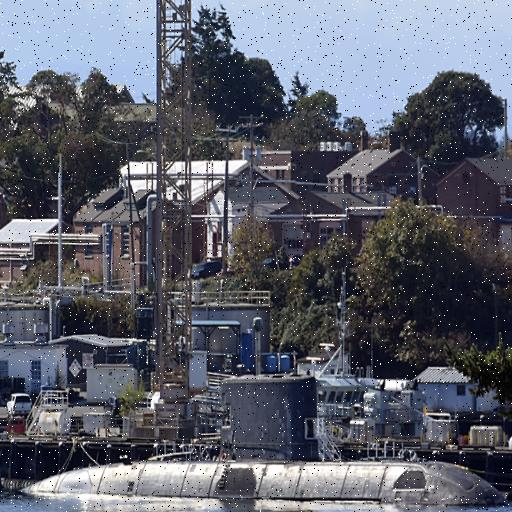submarine: (1, 373, 512, 507)
